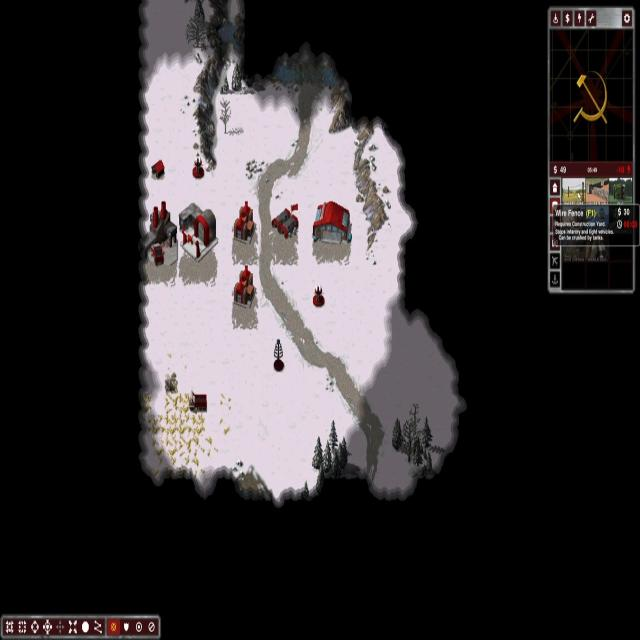bingying: (272, 208, 298, 238)
dianchang: (233, 200, 256, 243), (234, 264, 256, 307)
jidi: (178, 203, 218, 261)
jungongchang: (312, 200, 352, 244)
kuangchang: (141, 200, 178, 267)
